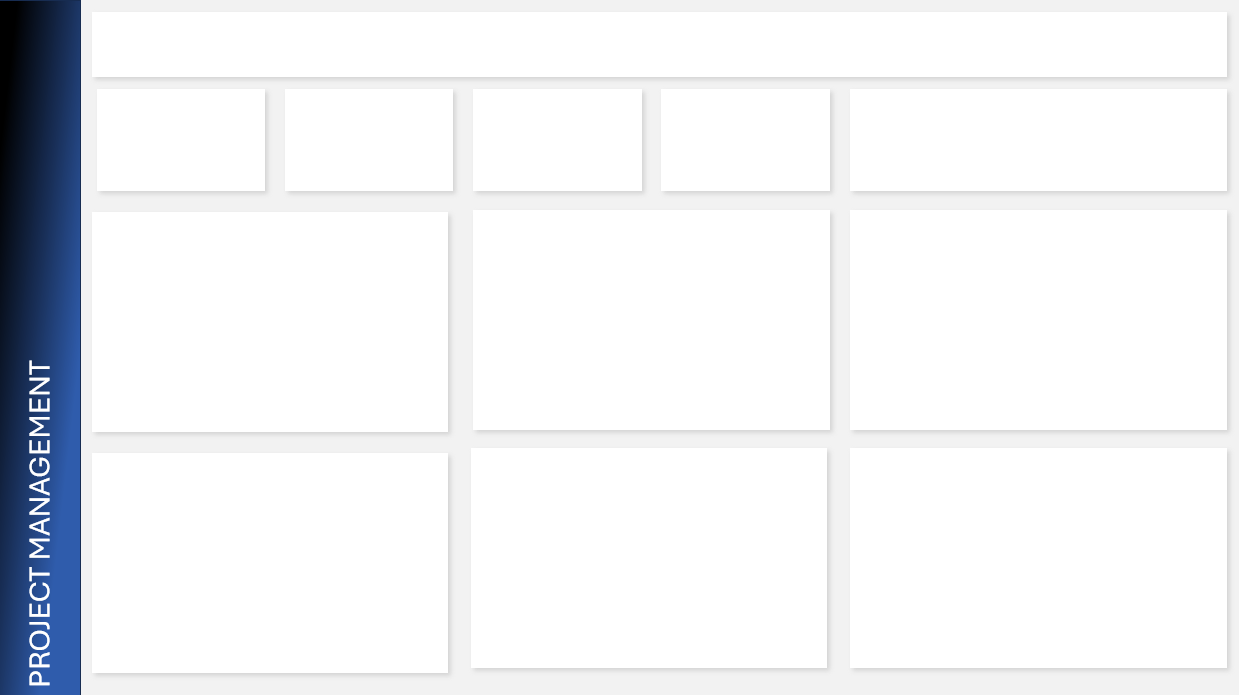

What the dashboard file says about the page in this screenshot:
{"tool":"powerbi","page":{"name":"Homepage","canvas":[1280,720],"ordinal":0},"visuals":[{"type":"card","fields":{"Values":["Measures (2).Project Costs"]},"box":[294.3,92.3,173.1,106.8],"z":0},{"type":"card","fields":{"Values":["Measures (2).Total Projects"]},"box":[101,92.3,173.1,106.8],"z":1000},{"type":"card","fields":{"Values":["Measures (2).Project Benefits"]},"box":[489.1,92.3,173.1,106.8],"z":2000},{"type":"card","fields":{"Values":["Measures (2).Beneit cost ratio"]},"box":[683.9,92.3,173.1,106.8],"z":3000},{"type":"barChart","title":"Complexity","fields":{"Y":["Measures (2).Total Projects"],"Series":["Project Management Dataset.Complexity"]},"box":[874.3,92.3,389.5,106.8],"z":4000},{"type":"lineChart","title":"Project Cost","fields":{"Y":["Measures (2).Project Costs"],"Category":["Date Table.Year"]},"box":[92.9,222,375.2,226.8],"z":5000},{"type":"donutChart","title":"Region","fields":{"Category":["Project Management Dataset.Region"],"Y":["Measures (2).Total Projects"]},"box":[489.2,220.4,368.4,227.6],"z":6000},{"type":"clusteredBarChart","title":"Benefit Cost Ratio","fields":{"Category":["Project Management Dataset.Project Name"],"Y":["Measures (2).Beneit cost ratio"]},"box":[92.4,469.3,375.5,227.6],"z":7000},{"type":"clusteredBarChart","title":"Department","fields":{"Y":["Measures (2).Total Projects"],"Category":["Project Management Dataset.Department"]},"box":[489.2,469.3,368.4,227.6],"z":8000},{"type":"clusteredBarChart","title":"Status","fields":{"Y":["Measures (2).Total Projects"],"Category":["Project Management Dataset.Status"]},"box":[874.7,220.4,389.7,227.6],"z":9000},{"type":"columnChart","title":"Status","fields":{"Category":["Project Management Dataset.Phase"],"Y":["Measures (2).Total Projects"]},"box":[876.1,469.3,388.3,227.6],"z":10000},{"type":"slicer","fields":{"Values":["Project Management Dataset.Project Name"]},"box":[1088,14.2,176.4,65.4],"z":11000},{"type":"slicer","fields":{"Values":["Project Management Dataset.Status"]},"box":[907.6,14.2,176,65.4],"z":12000},{"type":"slicer","fields":{"Values":["Project Management Dataset.Region"]},"box":[726.8,14.2,176.4,65.4],"z":13000},{"type":"textbox","box":[101,14.2,669.9,65.4],"z":14000},{"type":"image","box":[0,0,82,106.2],"z":15000},{"type":"image","box":[0,129.1,82,70],"z":16000},{"type":"image","box":[6,203.3,63.9,73.6],"z":17000},{"type":"image","box":[6,281.1,63.9,96.5],"z":18000}]}

Visuals, with their boxes on the page's 1280x720 design canvas (x1, y1, x2, y2). These are canvas units, not pixel positions in the 1239x695 screenshot, which may show the page scaled, cropped or inside an application window:
card - Measures (2).Project Costs: [294, 92, 467, 199]
card - Measures (2).Total Projects: [101, 92, 274, 199]
card - Measures (2).Project Benefits: [489, 92, 662, 199]
card - Measures (2).Beneit cost ratio: [684, 92, 857, 199]
"Complexity" barChart: [874, 92, 1264, 199]
"Project Cost" lineChart: [93, 222, 468, 449]
"Region" donutChart: [489, 220, 858, 448]
"Benefit Cost Ratio" clusteredBarChart: [92, 469, 468, 697]
"Department" clusteredBarChart: [489, 469, 858, 697]
"Status" clusteredBarChart: [875, 220, 1264, 448]
"Status" columnChart: [876, 469, 1264, 697]
slicer - Project Management Dataset.Project Name: [1088, 14, 1264, 80]
slicer - Project Management Dataset.Status: [908, 14, 1084, 80]
slicer - Project Management Dataset.Region: [727, 14, 903, 80]
textbox: [101, 14, 771, 80]
image: [0, 0, 82, 106]
image: [0, 129, 82, 199]
image: [6, 203, 70, 277]
image: [6, 281, 70, 378]
